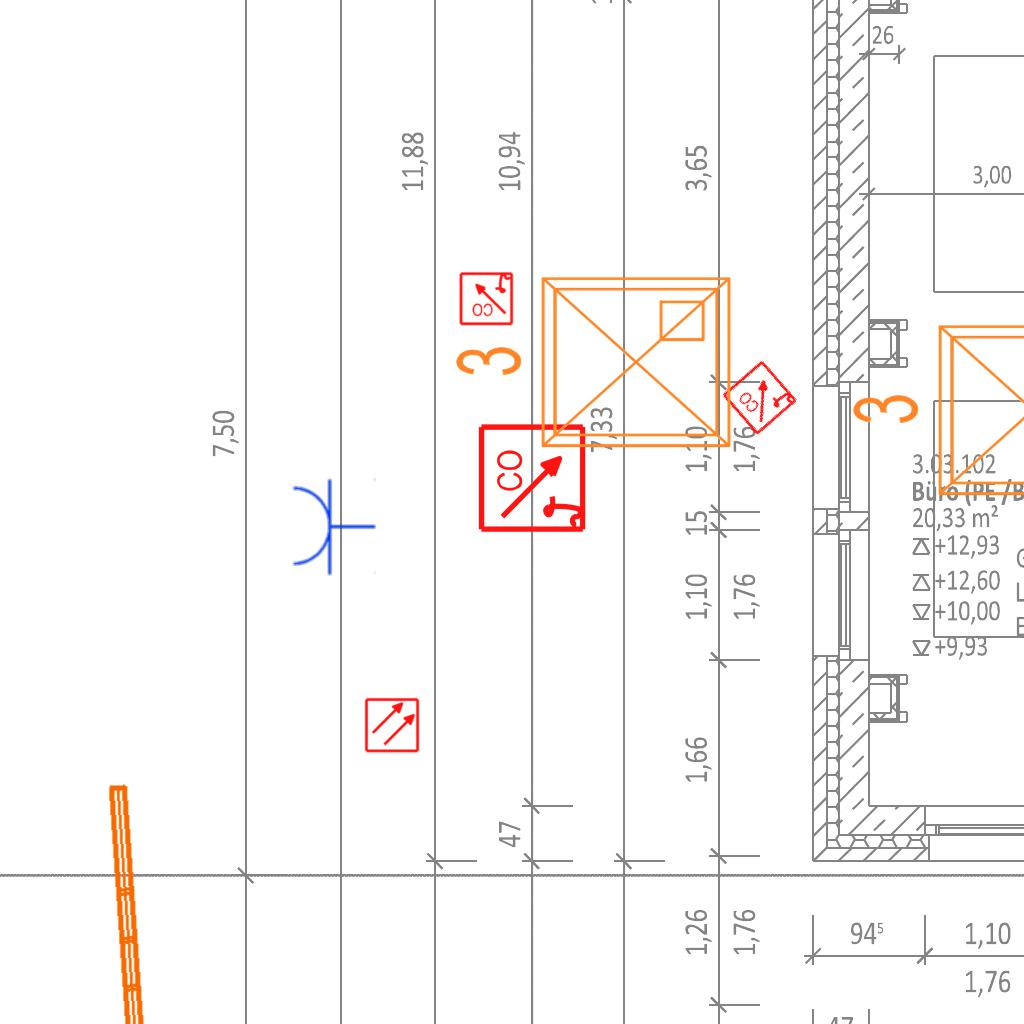Ambulanz_Pendelleuchte_LED: (102, 777, 185, 1024)
Einbaudownlights_LED_Konferenzraeume: (445, 262, 745, 470), (842, 310, 1024, 518)
RMO_Rauchmelder_optischer: (364, 697, 420, 753)
ROA_Rauchmelder_optisch_mit_Signalgeber_(Sockelsirene): (477, 421, 590, 534), (720, 357, 800, 437), (458, 270, 514, 326)
Schukosteckdose_einfach: (289, 476, 376, 576)
